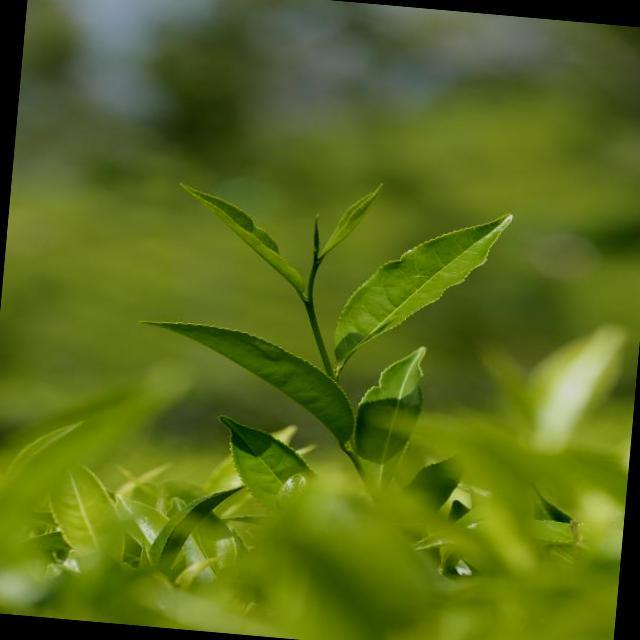Stem: (304, 301, 318, 328)
